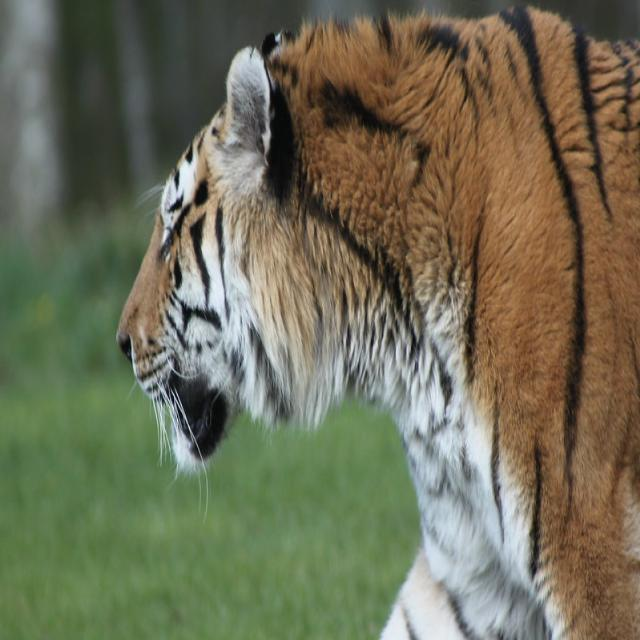Tiger: (112, 7, 639, 634)
